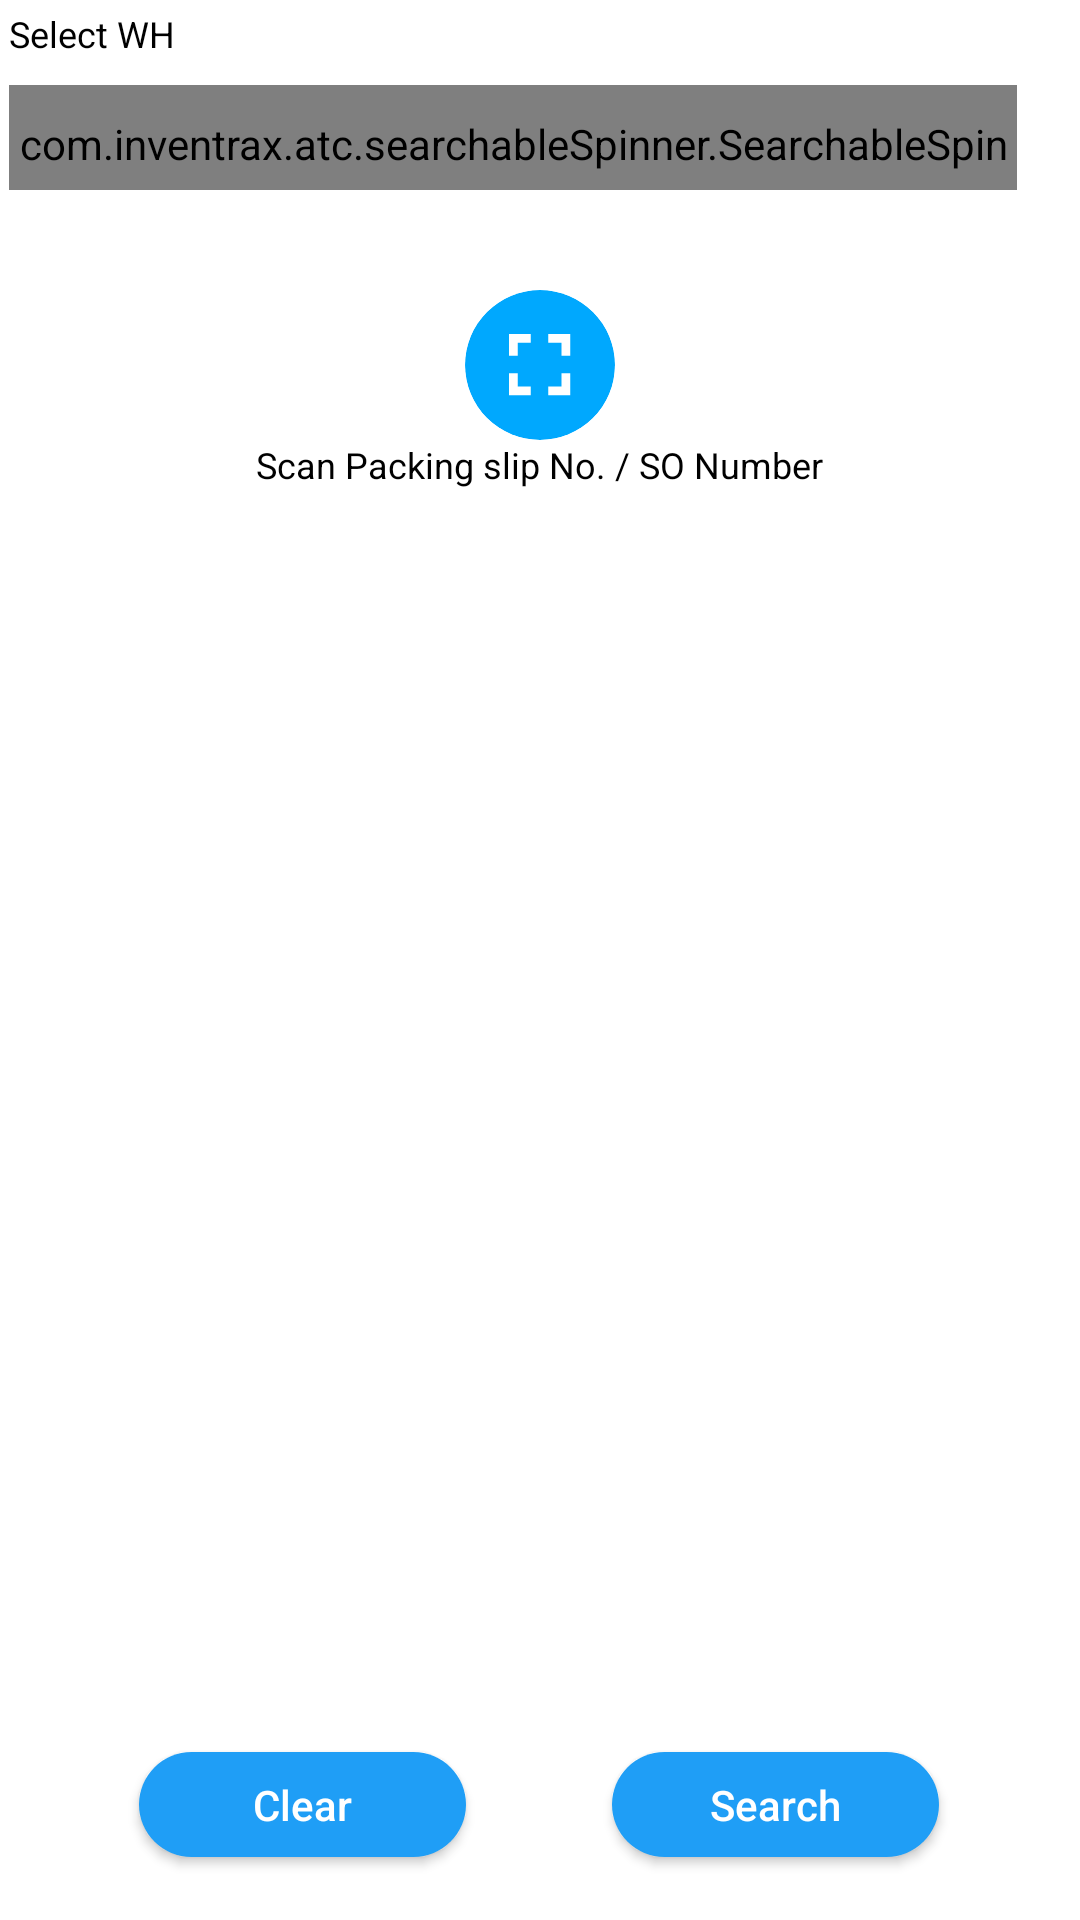

Icon click points for this 1080px x 1920px phone screenshot, format point (x, y):
fullscreen: point (540, 365)
